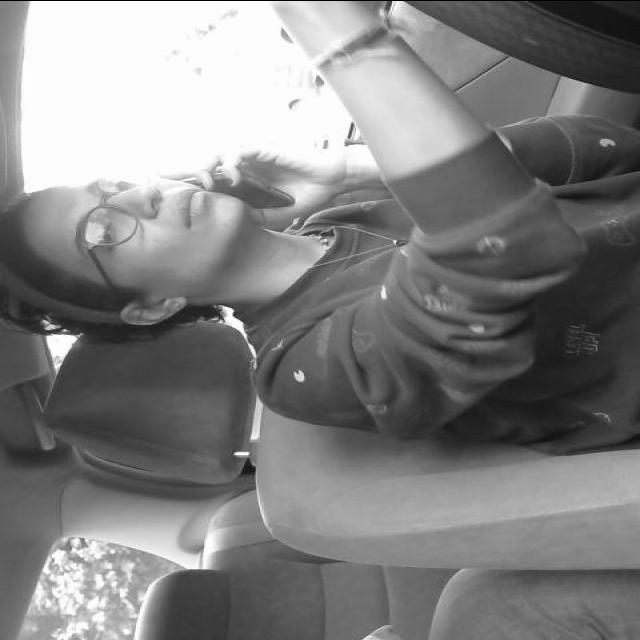mobile use: (180, 162, 298, 220)
